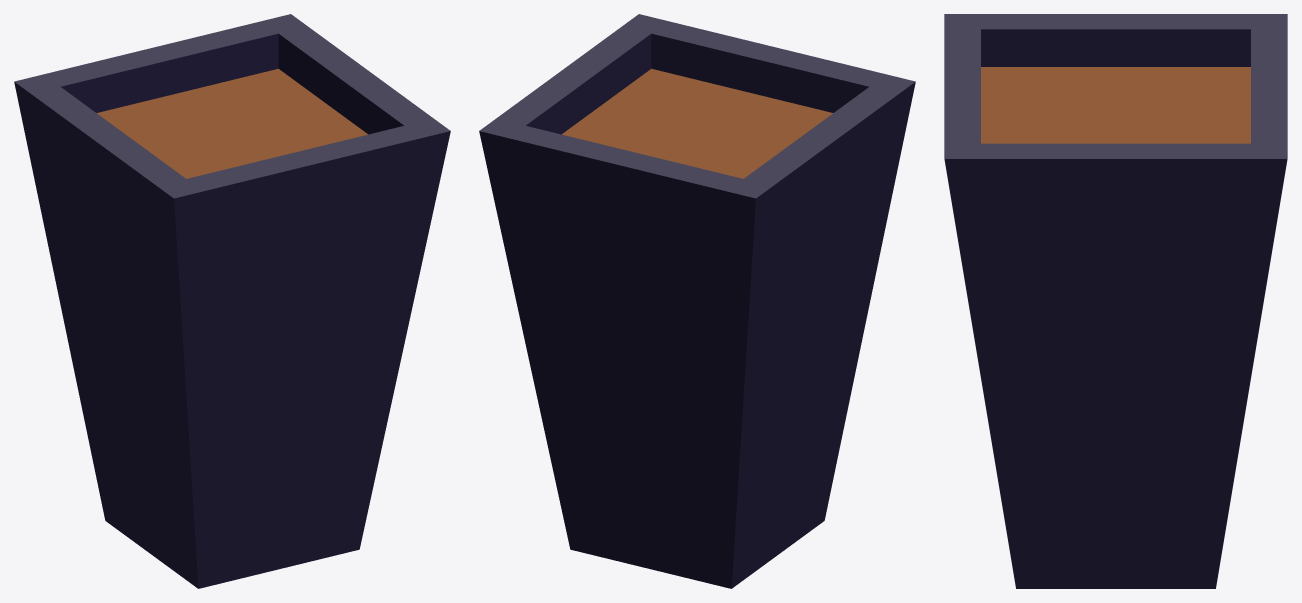
The model's file is pot4.fbx.
3 renders of one model, left to right at view 1: azimuth 30°, elevation 25°; view 2: azimuth 150°, elevation 25°; view 3: azimuth 270°, elevation 25°, orthographic. The views are drawn at different scales.
Visible parts, largest first — view 1: pot4; view 2: pot4; view 3: pot4.
Part boxes in pixels (x1,y1,x2,y2): pot4: [14, 14, 450, 588]; pot4: [479, 14, 915, 588]; pot4: [944, 14, 1287, 588].
Size of the model in its own units: 20.14 by 29.81 by 20.14.
